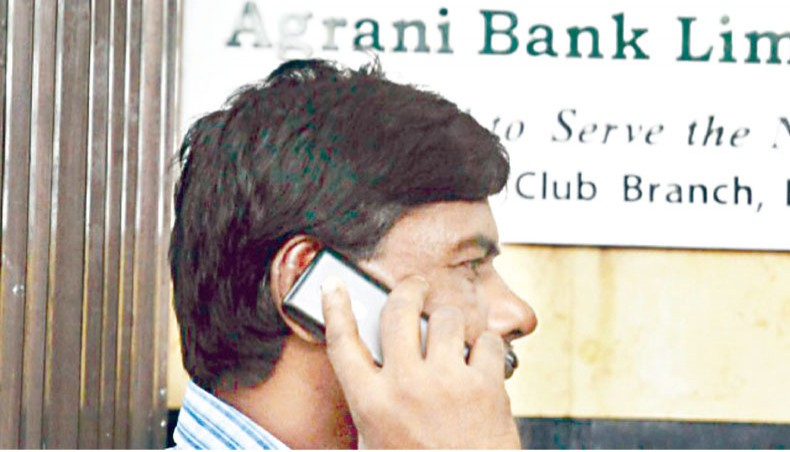phone: (301, 256, 506, 401)
talk: (260, 209, 551, 452)
